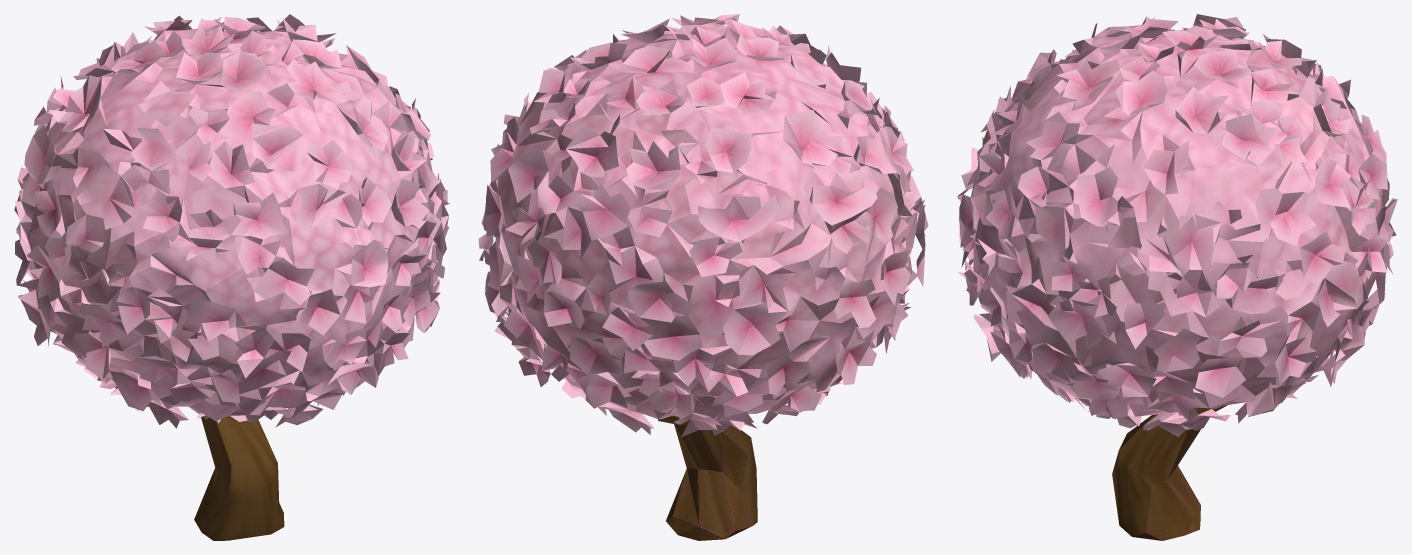
File: blossom.glb
3 views of the same model, side by side, from view 1: azimuth 30°, elevation 25°; view 2: azimuth 150°, elevation 25°; view 3: azimuth 270°, elevation 25° (orthographic).
Size of the model in its own units: 1.56 by 1.89 by 1.55.
1 material, 1 textured.
